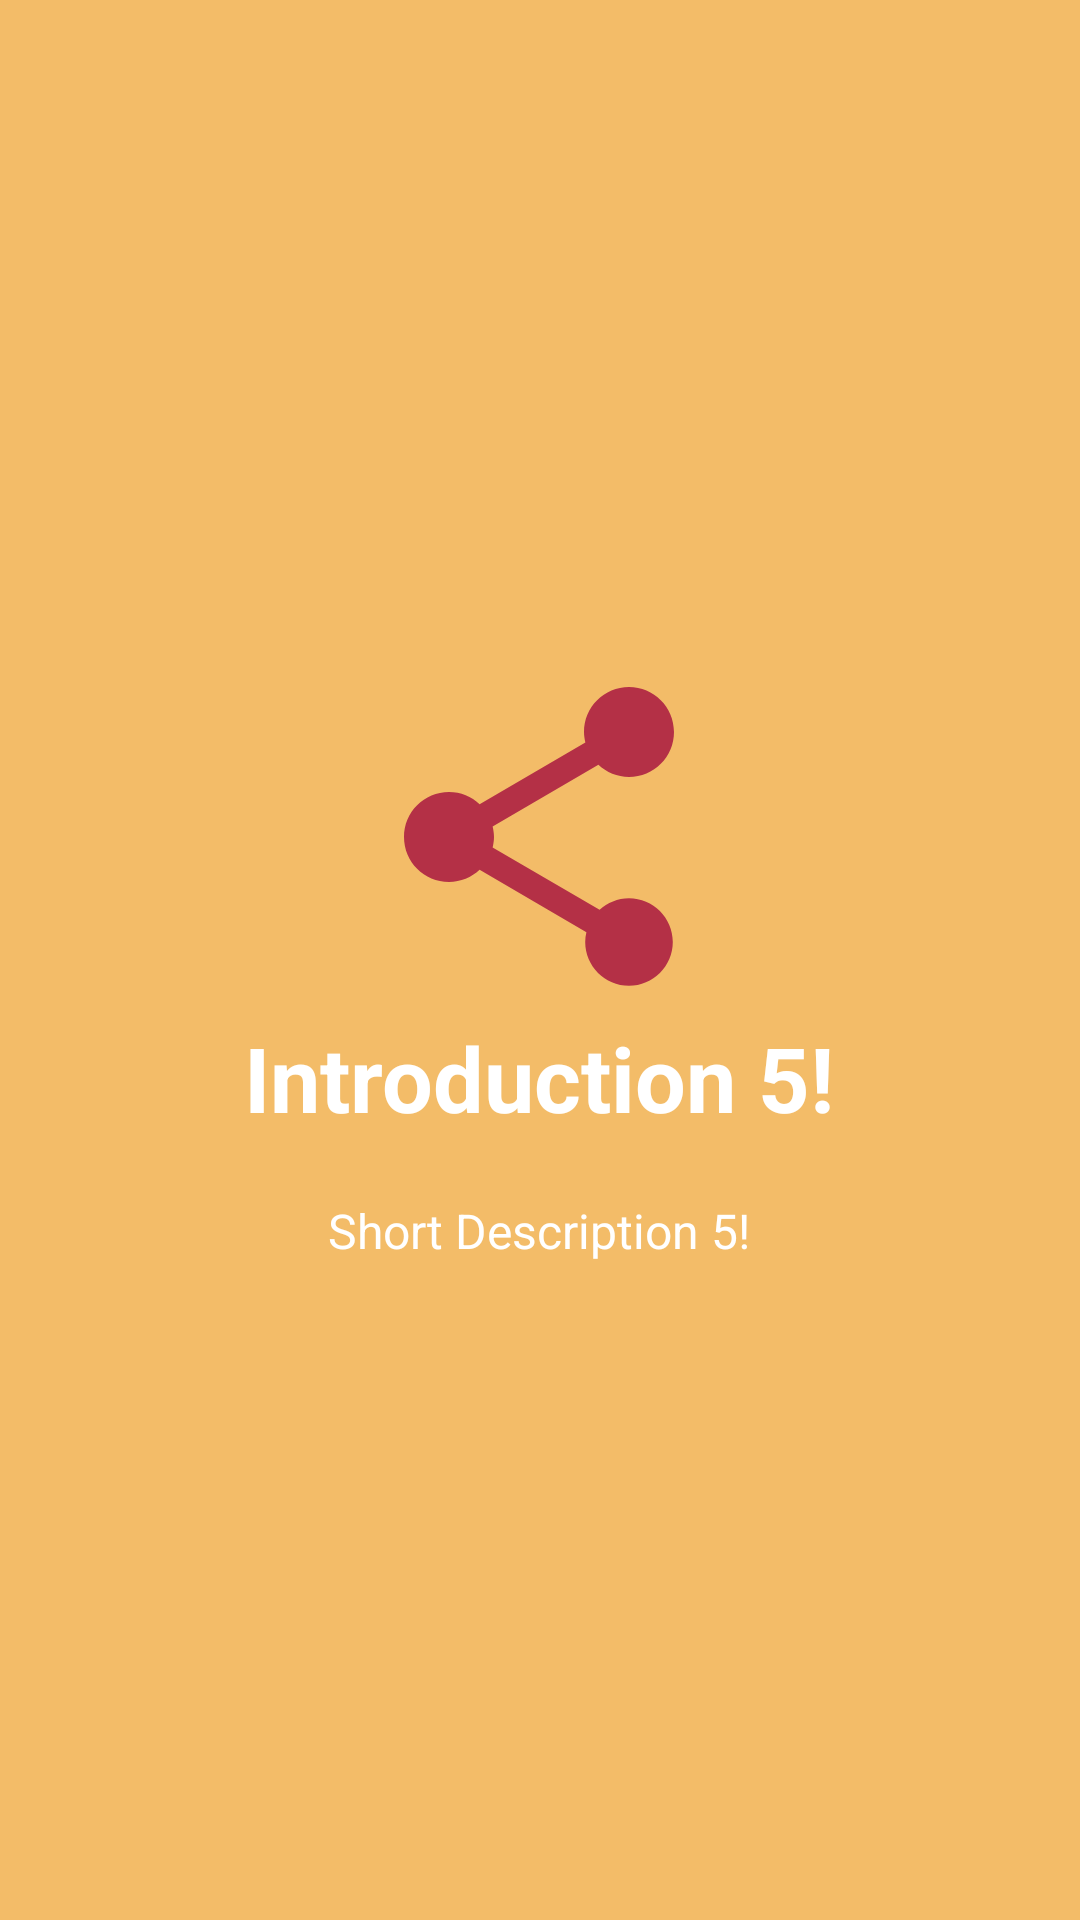

Named icons in this screenshot (1080×1920) and their bounding boxes, (x1, y1, x2, y2):
share: (404, 687, 674, 986)
